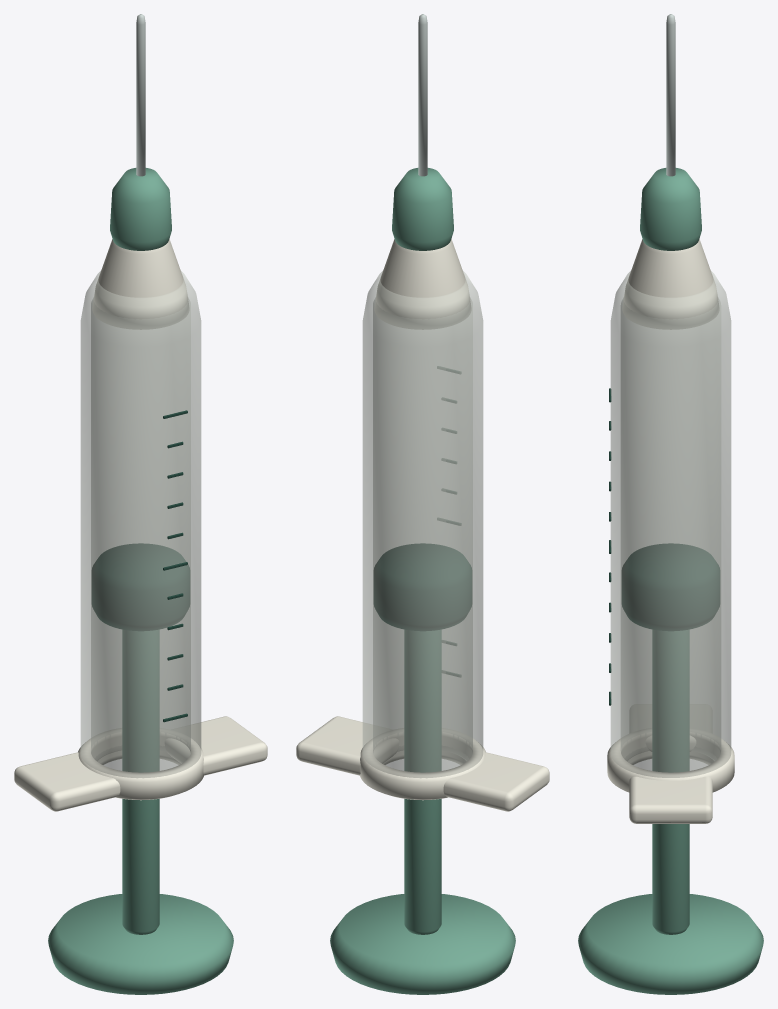
The model's file is syringe.glb.
3 views of the same model, side by side, from view 1: azimuth 30°, elevation 25°; view 2: azimuth 150°, elevation 25°; view 3: azimuth 270°, elevation 25° (orthographic).
Parts seen in each view (by area): view 1: Syringe | connected hollow barrel, Syringe | rounded thumb pad, Syringe | solid plunger shaft, Syringe | fitted piston, Syringe | tapered nozzle, Syringe | rear barrel lip, Syringe | mint tip hub, Syringe | finger flange -1, Syringe | finger flange 1, Syringe | short rounded steel tip; view 2: Syringe | connected hollow barrel, Syringe | rounded thumb pad, Syringe | solid plunger shaft, Syringe | fitted piston, Syringe | tapered nozzle, Syringe | rear barrel lip, Syringe | mint tip hub, Syringe | finger flange -1, Syringe | finger flange 1, Syringe | short rounded steel tip; view 3: Syringe | connected hollow barrel, Syringe | rounded thumb pad, Syringe | solid plunger shaft, Syringe | fitted piston, Syringe | tapered nozzle, Syringe | mint tip hub, Syringe | rear barrel lip, Syringe | finger flange 1, Syringe | short rounded steel tip.
Boxes of the visible parts, box(x1,y1,x2,y2) form: Syringe | connected hollow barrel: box(80, 271, 201, 777); Syringe | rounded thumb pad: box(48, 894, 233, 994); Syringe | solid plunger shaft: box(122, 630, 159, 934); Syringe | fitted piston: box(92, 543, 189, 630); Syringe | tapered nozzle: box(92, 239, 189, 329); Syringe | rear barrel lip: box(78, 728, 203, 800); Syringe | mint tip hub: box(110, 168, 171, 250); Syringe | finger flange -1: box(14, 752, 120, 811); Syringe | finger flange 1: box(165, 716, 267, 775); Syringe | short rounded steel tip: box(136, 14, 145, 176); Syringe | connected hollow barrel: box(362, 271, 483, 777); Syringe | rounded thumb pad: box(330, 894, 515, 994); Syringe | solid plunger shaft: box(404, 630, 441, 934); Syringe | fitted piston: box(374, 543, 471, 630); Syringe | tapered nozzle: box(374, 239, 471, 329); Syringe | rear barrel lip: box(360, 728, 485, 800); Syringe | mint tip hub: box(392, 168, 453, 250); Syringe | finger flange -1: box(443, 752, 549, 811); Syringe | finger flange 1: box(296, 716, 398, 775); Syringe | short rounded steel tip: box(418, 14, 427, 176); Syringe | connected hollow barrel: box(610, 271, 731, 777); Syringe | rounded thumb pad: box(578, 894, 763, 994); Syringe | solid plunger shaft: box(652, 630, 689, 934); Syringe | fitted piston: box(622, 543, 719, 630); Syringe | tapered nozzle: box(622, 239, 719, 329); Syringe | mint tip hub: box(640, 168, 701, 250); Syringe | rear barrel lip: box(607, 728, 734, 792); Syringe | finger flange 1: box(629, 776, 712, 823); Syringe | short rounded steel tip: box(666, 14, 675, 176).
Bounding box in the file's own units: 0.054 × 0.225 × 0.04.
